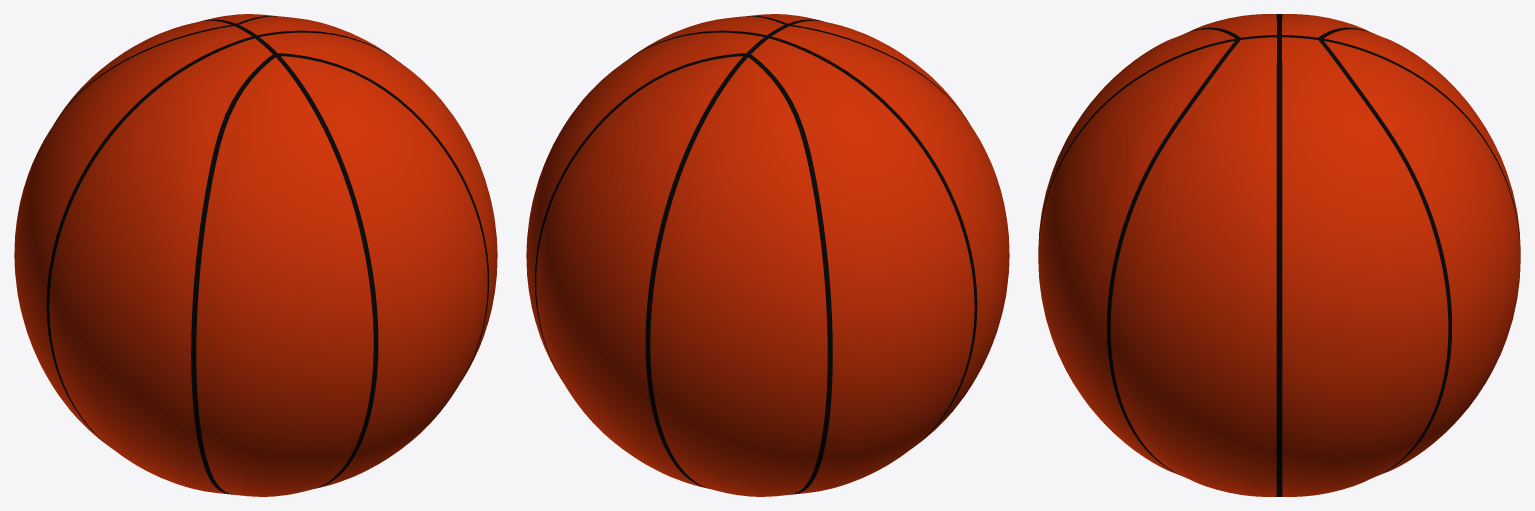
The model's file is Basketball.obj.
3 renders of one model, left to right at view 1: azimuth 30°, elevation 25°; view 2: azimuth 150°, elevation 25°; view 3: azimuth 270°, elevation 25°, orthographic.
Visible parts, largest first — view 1: Cube_ball, Cube_Material.001; view 2: Cube_ball, Cube_Material.001; view 3: Cube_ball, Cube_Material.001.
Boxes of the visible parts, bbox=[...] form: Cube_ball: bbox=[14, 14, 497, 496]; Cube_Material.001: bbox=[46, 16, 489, 494]; Cube_ball: bbox=[526, 14, 1009, 496]; Cube_Material.001: bbox=[534, 16, 977, 494]; Cube_ball: bbox=[1038, 14, 1520, 496]; Cube_Material.001: bbox=[1038, 14, 1520, 496].
Bounding box in the file's own units: 2.52 × 2.53 × 2.52.
